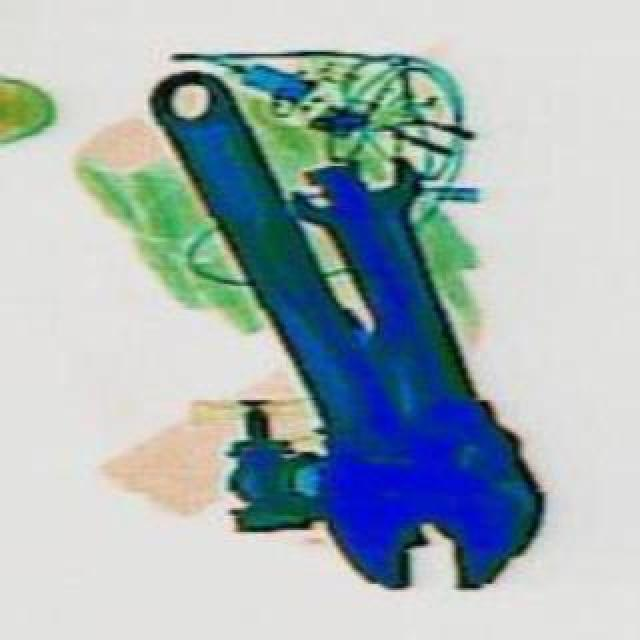scissors: (82, 30, 550, 630), (280, 144, 574, 588)
